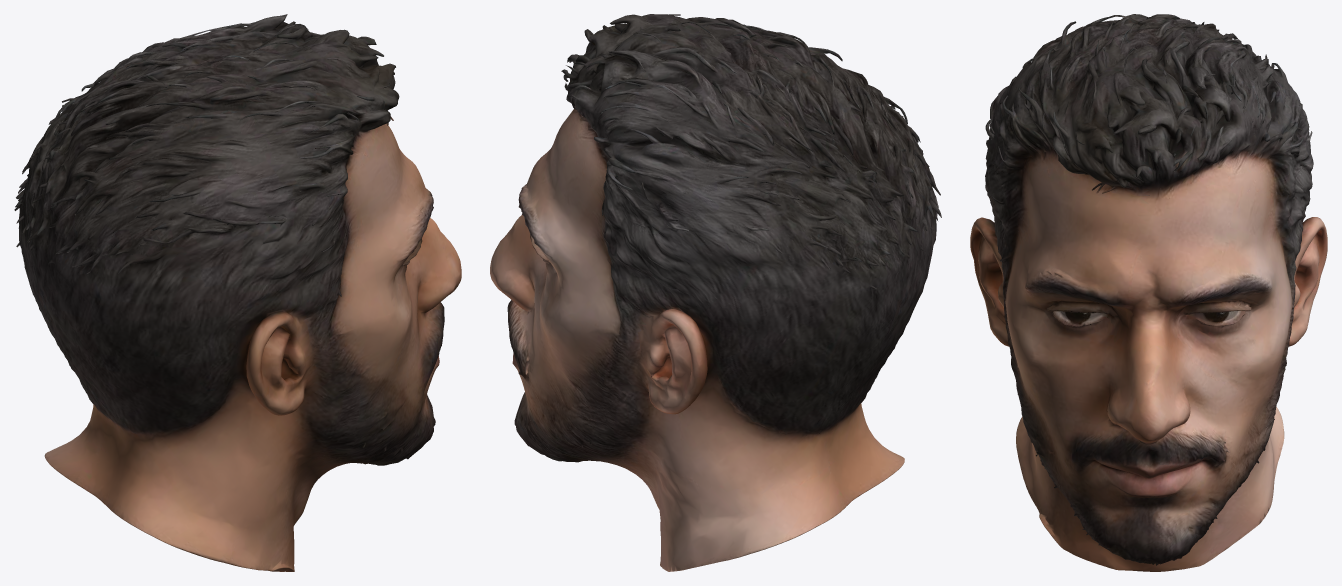
Rendered from head.glb.
The picture shows the model from 3 angles, left to right: view 1: azimuth 30°, elevation 25°; view 2: azimuth 150°, elevation 25°; view 3: azimuth 270°, elevation 25°; orthographic projection.
Visible parts, largest first — view 1: tripo_node_15713464-9bd2-4fb8-b6c8-8704d412d1de; view 2: tripo_node_15713464-9bd2-4fb8-b6c8-8704d412d1de; view 3: tripo_node_15713464-9bd2-4fb8-b6c8-8704d412d1de.
Part boxes in pixels (left/top/right/bottom): tripo_node_15713464-9bd2-4fb8-b6c8-8704d412d1de: left=14, top=14, right=461, bottom=571; tripo_node_15713464-9bd2-4fb8-b6c8-8704d412d1de: left=490, top=14, right=941, bottom=571; tripo_node_15713464-9bd2-4fb8-b6c8-8704d412d1de: left=970, top=14, right=1327, bottom=571.
Bounding box in the file's own units: 0.8583 × 1 × 0.6262.
1 material, 1 textured.
